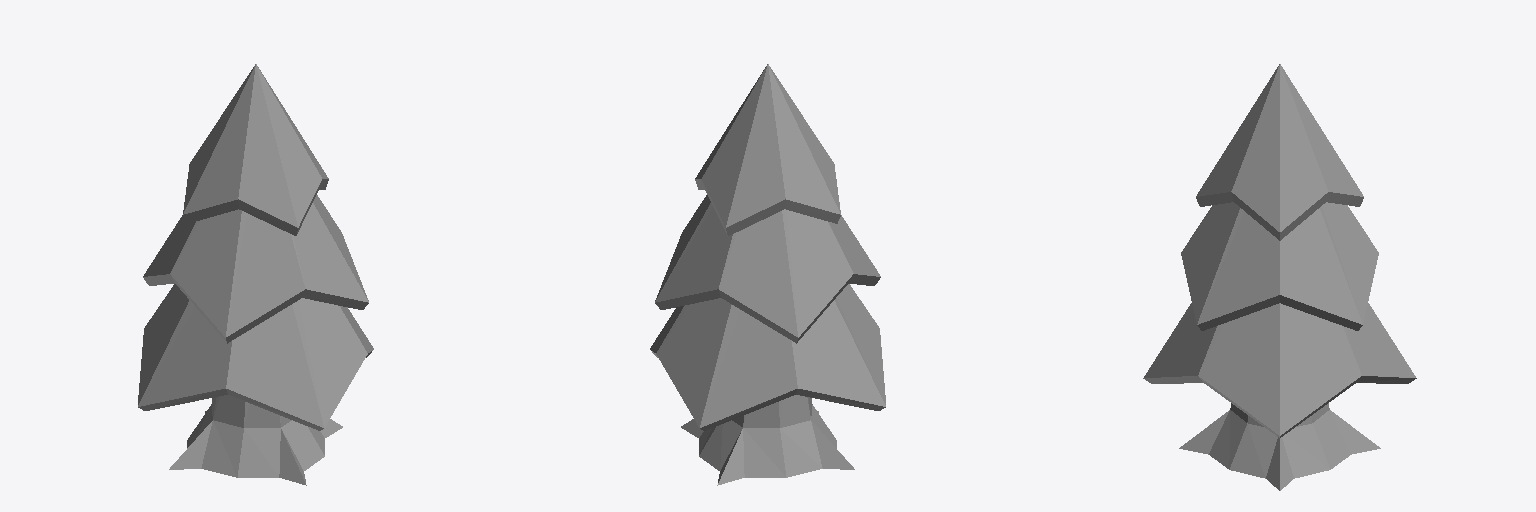
The model's file is pine_v2.obj.
3 renders of one model, left to right at view 1: azimuth 30°, elevation 25°; view 2: azimuth 150°, elevation 25°; view 3: azimuth 270°, elevation 25°, orthographic.
Parts seen in each view (by area): view 1: pine_Cylinder.001; view 2: pine_Cylinder.001; view 3: pine_Cylinder.001.
Part boxes in pixels (bbox=[...]): pine_Cylinder.001: bbox=[138, 64, 373, 485]; pine_Cylinder.001: bbox=[650, 64, 885, 485]; pine_Cylinder.001: bbox=[1143, 64, 1416, 490].
Bounding box in the file's own units: 1.99 × 3.1 × 1.99.